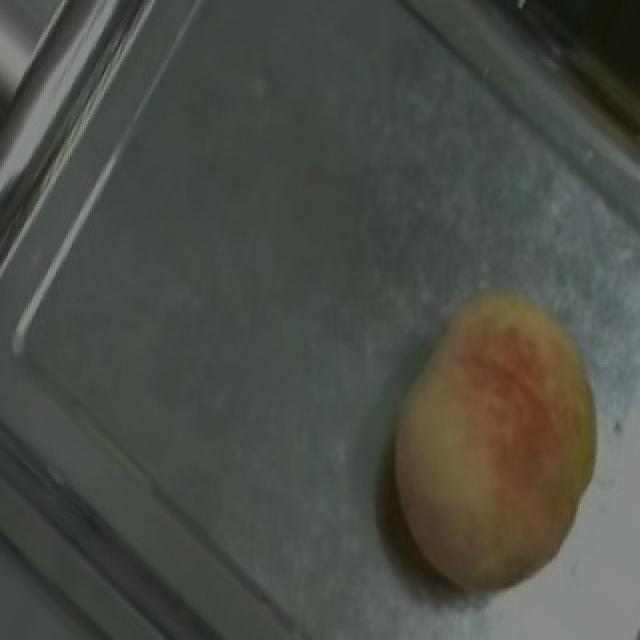Fruit: (346, 250, 640, 622)
